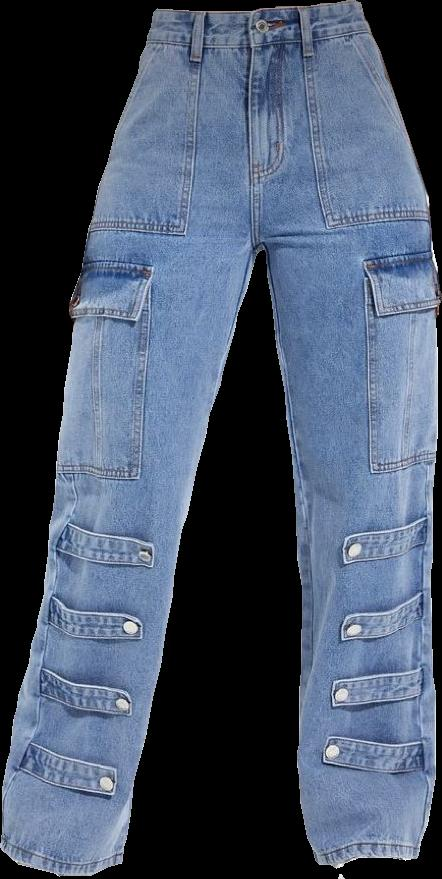Hemline: (0, 839, 122, 878), (317, 848, 420, 872)
Pantleg: (2, 9, 263, 875), (249, 1, 441, 868)
Waistline: (144, 28, 373, 59), (153, 0, 363, 21)
